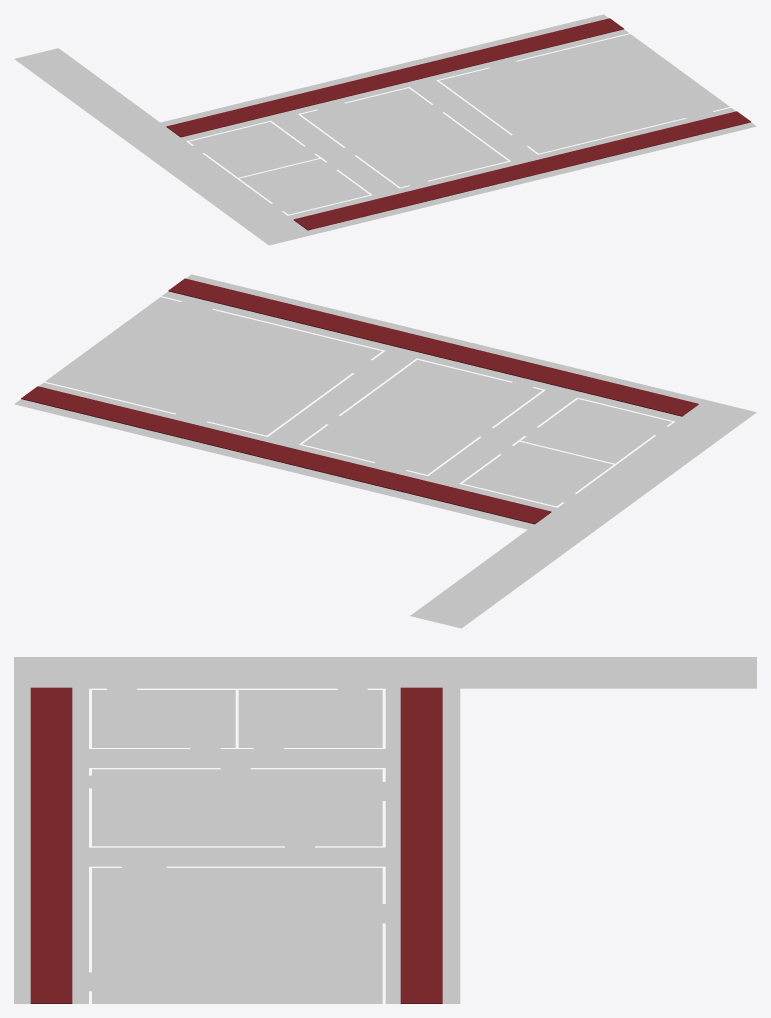
The model's file is InteriorFloor.fbx.
The picture shows the model from 3 angles, top to bottom: view 1: azimuth 30°, elevation 25°; view 2: azimuth 150°, elevation 25°; view 3: azimuth 270°, elevation 25°; orthographic projection. The views are drawn at different scales.
Parts seen in each view (by area): view 1: Flooring, Flooring.002; view 2: Flooring, Flooring.002; view 3: Flooring, Flooring.002.
Boxes of the visible parts, x1,y1,x2,y2 form: Flooring: (14, 14, 756, 245); Flooring.002: (166, 18, 750, 230); Flooring: (14, 274, 756, 628); Flooring.002: (21, 278, 698, 524); Flooring: (14, 657, 756, 1003); Flooring.002: (30, 687, 442, 1003).
Size of the model in its own units: 5480 by 7.39 by 4960.
